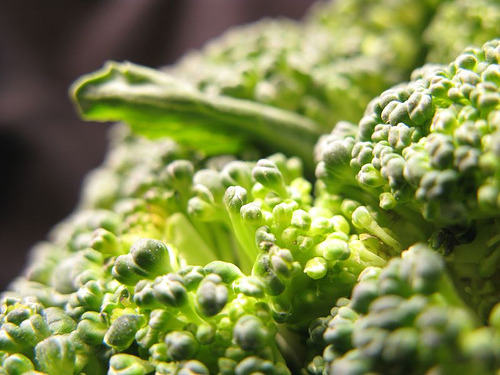broccoli: (1, 1, 499, 374)
